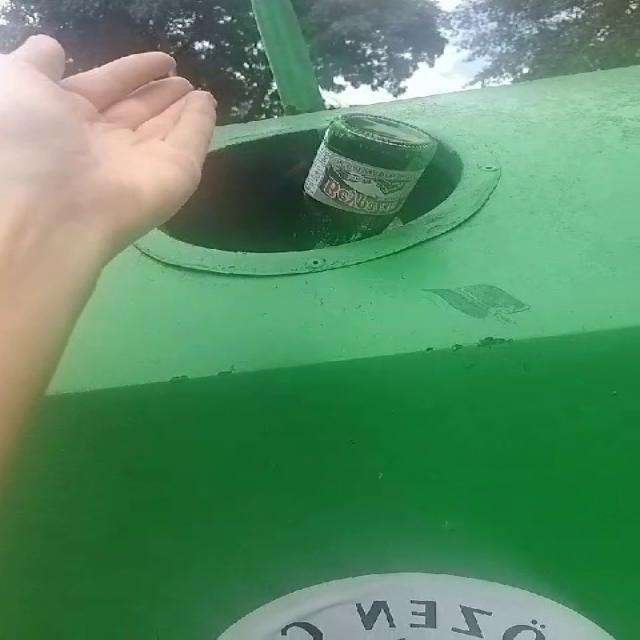glass: (303, 113, 436, 247)
